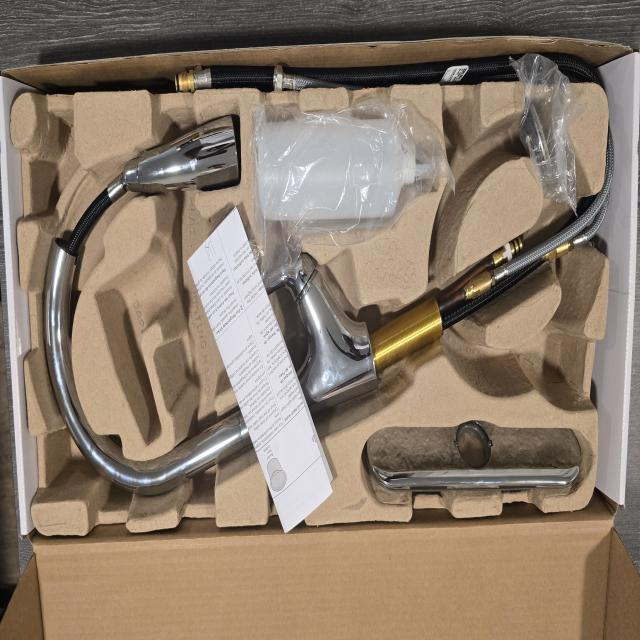1o: (44, 114, 609, 500)
2m: (95, 203, 246, 448)
3: (254, 117, 434, 222)
4: (366, 419, 581, 490)
5m: (532, 321, 583, 408)
6: (510, 55, 590, 217)
7m: (442, 88, 493, 236)
8: (187, 207, 333, 537)
